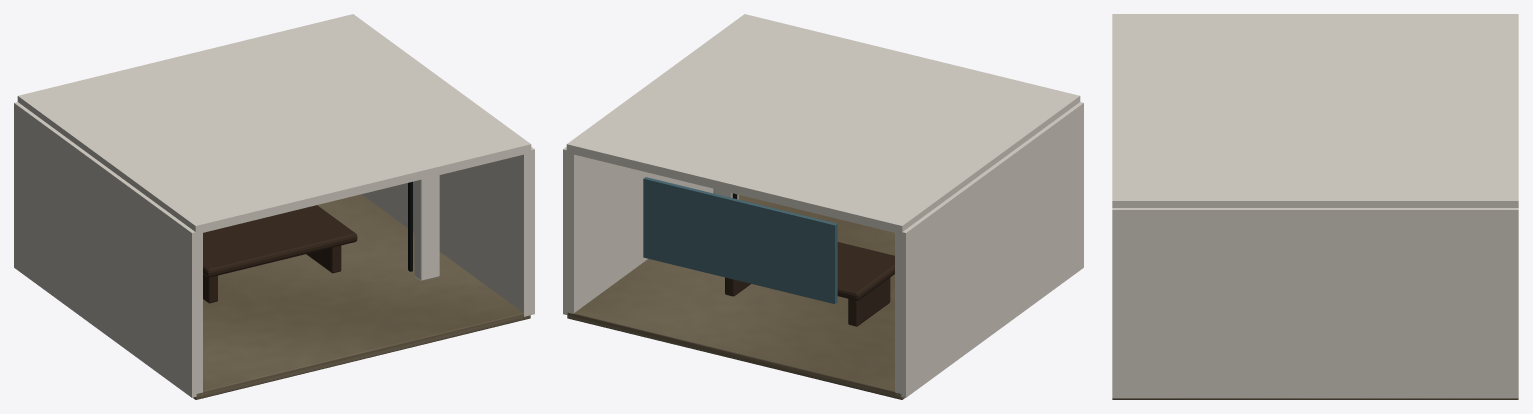
The model's file is luminous-passage-court.glb.
3 views of the same model, side by side, from view 1: azimuth 30°, elevation 25°; view 2: azimuth 150°, elevation 25°; view 3: azimuth 270°, elevation 25° (orthographic). The views are drawn at different scales.
Visible parts, largest first — view 1: Ceiling_consultation-court, Floor_consultation-court, Wall_consultation-court, Wall_consultation-court.001, Consultation_table, Portal_jamb.019, Consultation_plinth.001; view 2: Ceiling_consultation-court, Wall_consultation-court, Floor_consultation-court, Court_light_slot, Wall_consultation-court.001, Consultation_table, Consultation_plinth; view 3: Ceiling_consultation-court, Wall_consultation-court.001, Floor_consultation-court.
Boxes of the visible parts, x1,y1,x2,y2 form: Ceiling_consultation-court: (17, 14, 531, 234); Floor_consultation-court: (193, 194, 530, 399); Wall_consultation-court: (14, 102, 202, 397); Wall_consultation-court.001: (361, 147, 534, 316); Consultation_table: (203, 205, 357, 277); Portal_jamb.019: (414, 175, 439, 280); Consultation_plinth.001: (306, 245, 341, 273); Ceiling_consultation-court: (566, 14, 1080, 234); Wall_consultation-court: (895, 102, 1083, 397); Floor_consultation-court: (567, 195, 904, 399); Court_light_slot: (643, 177, 837, 303); Wall_consultation-court.001: (563, 147, 713, 315); Consultation_table: (837, 242, 894, 300); Consultation_plinth: (848, 277, 890, 326); Ceiling_consultation-court: (1112, 14, 1518, 207); Wall_consultation-court.001: (1112, 208, 1518, 398); Floor_consultation-court: (1112, 398, 1518, 399).
Bounding box in the file's own units: 10.02 × 4.87 × 9.
Materials: 5 (1 with a texture image).
